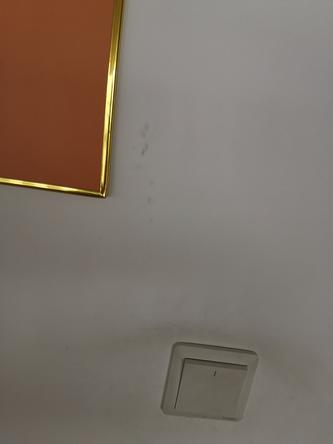switch: (168, 352, 248, 416)
